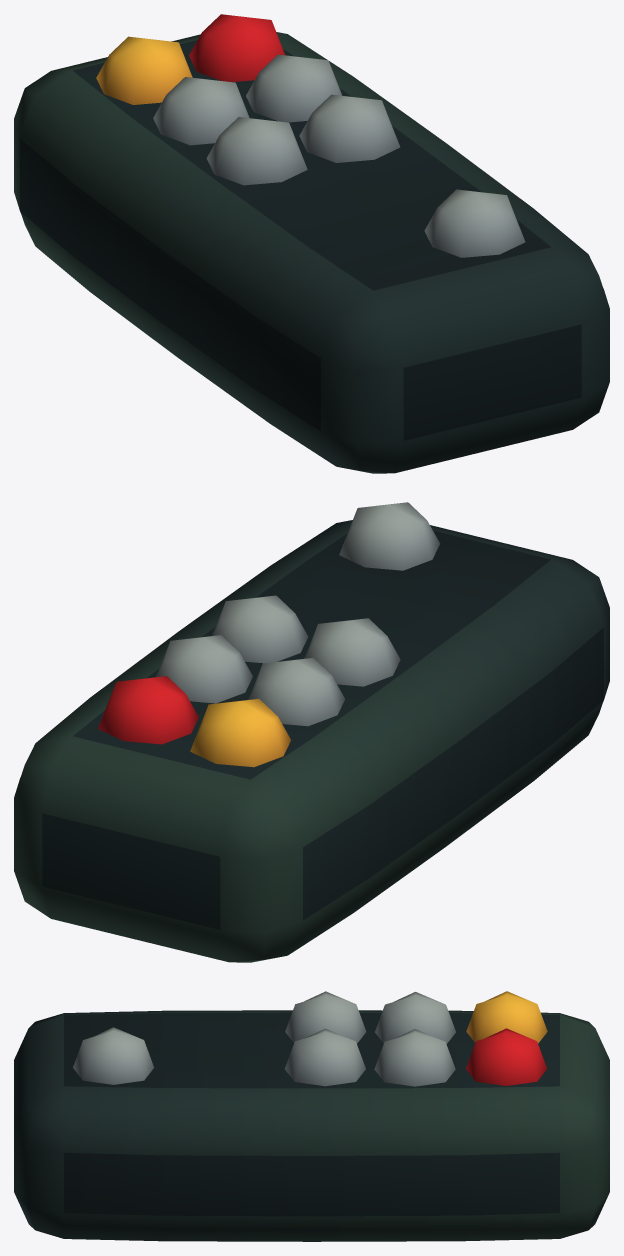
Rendered from remote_LOD_setup.fbx.
3 renders of one model, top to bottom at view 1: azimuth 30°, elevation 25°; view 2: azimuth 150°, elevation 25°; view 3: azimuth 270°, elevation 25°, orthographic. The views are drawn at different scales.
Visible parts, largest first — view 1: remote_LOD0; view 2: remote_LOD0; view 3: remote_LOD0.
Part boxes in pixels (left/top/right/bottom): remote_LOD0: left=14, top=14, right=609, bottom=473; remote_LOD0: left=14, top=502, right=609, bottom=962; remote_LOD0: left=14, top=991, right=609, bottom=1241.
Size of what is drawn, in the model's own units: 17.48 by 12.72 by 36.6.
